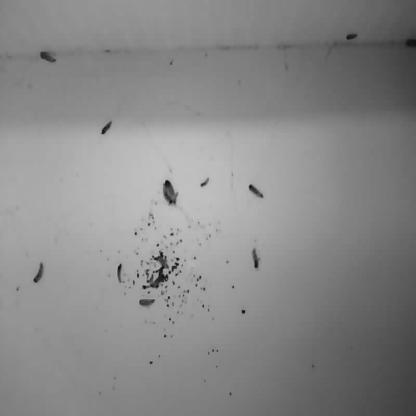PtecticusTenebrifer: (32, 260, 46, 286), (248, 183, 265, 201), (166, 180, 178, 204), (40, 50, 58, 65), (100, 118, 113, 137), (162, 183, 172, 205), (251, 246, 260, 270), (138, 297, 157, 307), (116, 263, 122, 283), (202, 177, 210, 190)
